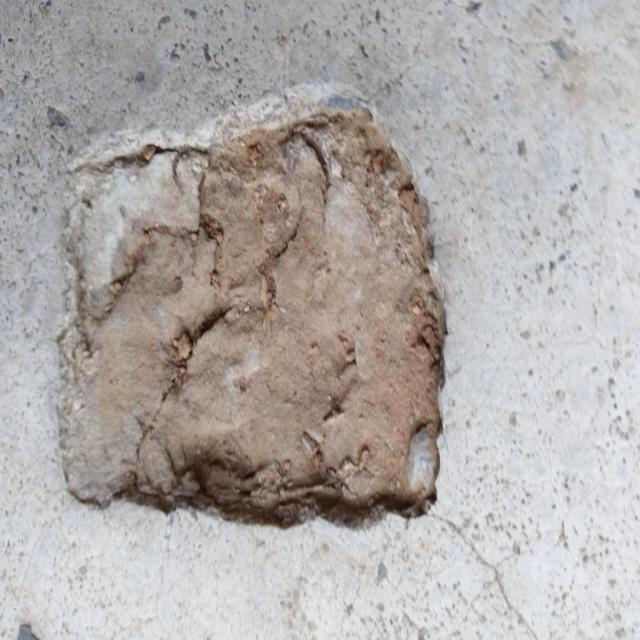concrete spalling: (54, 110, 449, 529)
diagonal crack: (432, 513, 540, 639), (363, 24, 455, 106), (453, 4, 564, 54), (15, 520, 48, 598)
vertical crack: (548, 433, 588, 516), (146, 533, 171, 637), (296, 530, 308, 636), (280, 27, 288, 108)
